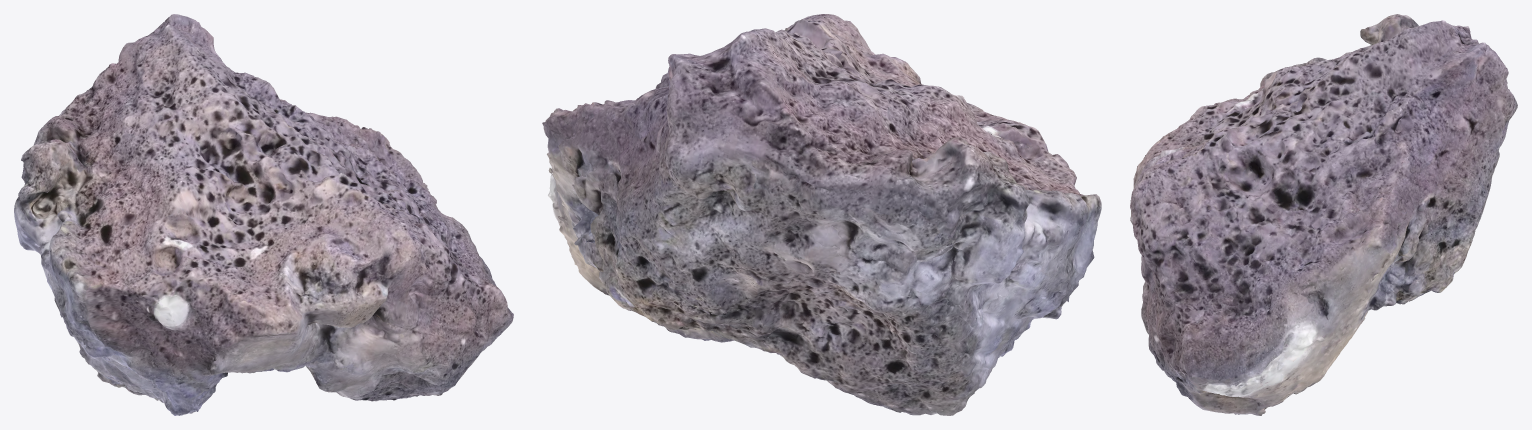
File: scoria.glb
3 renders of one model, left to right at view 1: azimuth 30°, elevation 25°; view 2: azimuth 150°, elevation 25°; view 3: azimuth 270°, elevation 25°, orthographic. The views are drawn at different scales.
Visible parts, largest first — view 1: Object_2; view 2: Object_2; view 3: Object_2.
Part boxes in pixels (bbox=[...]): Object_2: bbox=[14, 14, 513, 415]; Object_2: bbox=[542, 14, 1101, 415]; Object_2: bbox=[1130, 14, 1517, 415].
Size of the model in its own units: 1.68 by 1.28 by 1.37.
1 material, 1 textured.
